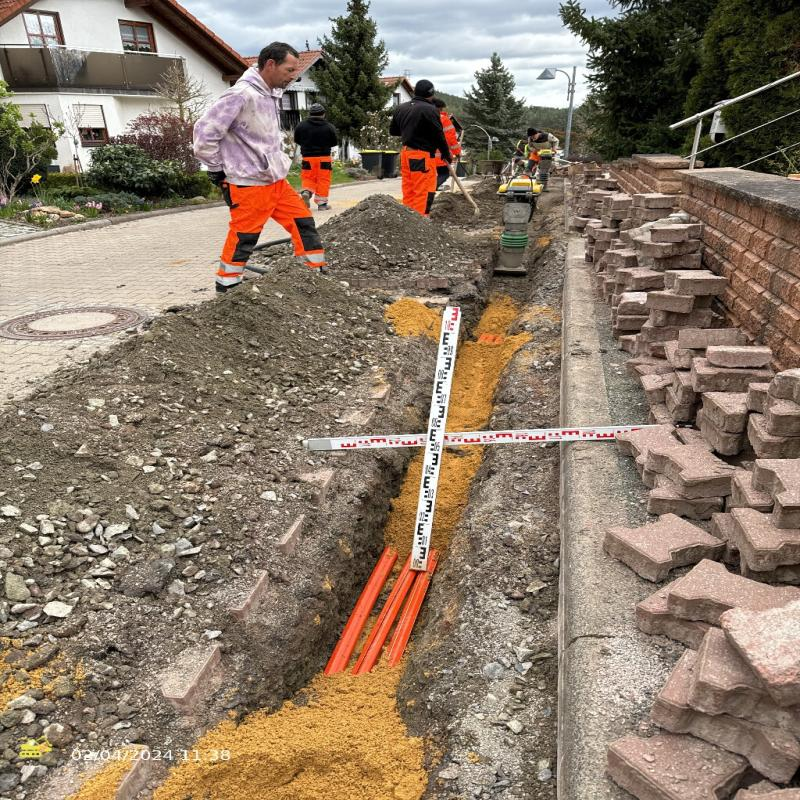Orang-Speednetrohrchen: (326, 546, 396, 674), (352, 569, 432, 674)
